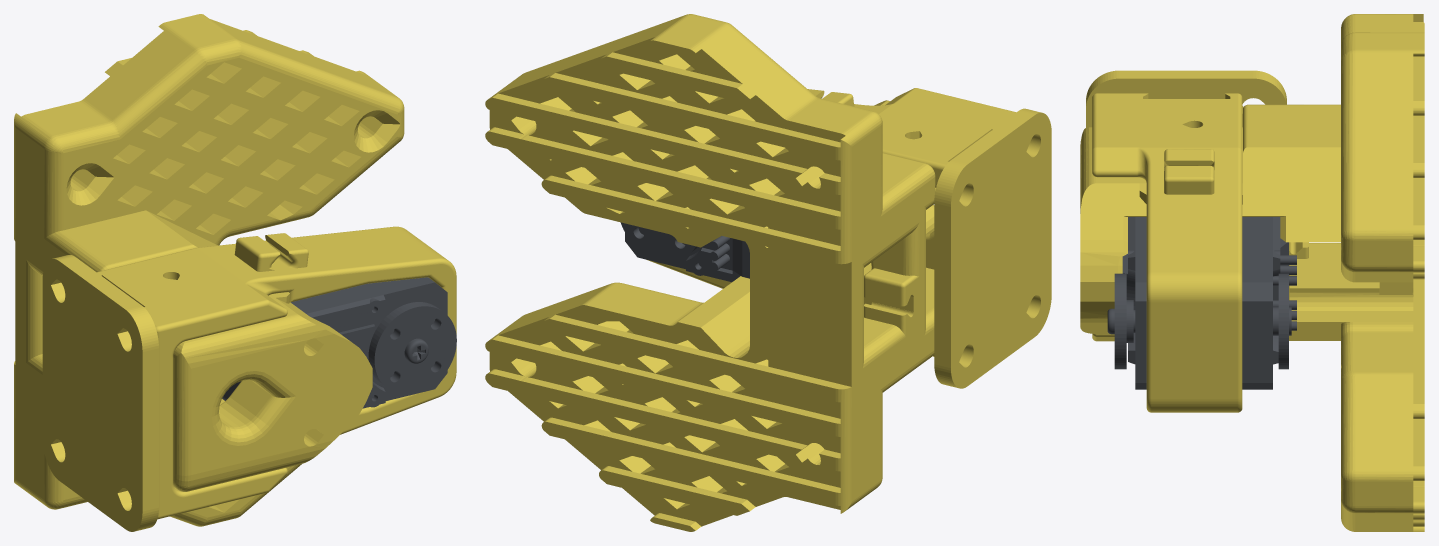
3 views of the same model, side by side, from view 1: azimuth 30°, elevation 25°; view 2: azimuth 150°, elevation 25°; view 3: azimuth 270°, elevation 25° (orthographic).
Visible parts, largest first — view 1: base_link_1, base_link_0, base_link_3, base_link_2; view 2: base_link_1, base_link_3, base_link_0, base_link_2; view 3: base_link_1, base_link_0, base_link_2, base_link_3.
Part boxes in pixels (bbox=[...]): base_link_1: bbox=[14, 14, 404, 526]; base_link_0: bbox=[97, 226, 456, 519]; base_link_3: bbox=[42, 255, 158, 531]; base_link_2: bbox=[222, 277, 456, 408]; base_link_1: bbox=[485, 14, 935, 531]; base_link_3: bbox=[934, 108, 1051, 388]; base_link_0: bbox=[646, 88, 1015, 356]; base_link_2: bbox=[620, 222, 749, 282]; base_link_1: bbox=[1080, 14, 1424, 531]; base_link_0: bbox=[1092, 93, 1242, 412]; base_link_2: bbox=[1107, 217, 1296, 389]; base_link_3: bbox=[1086, 70, 1286, 127].
Size of the model in its own units: 0.0956 by 0.1109 by 0.072.
